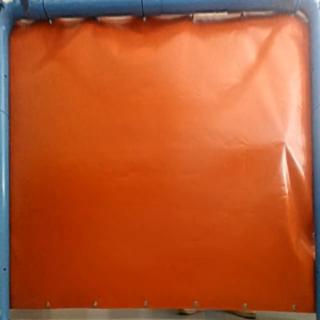Hit-hRxx: (279, 135, 293, 150)
